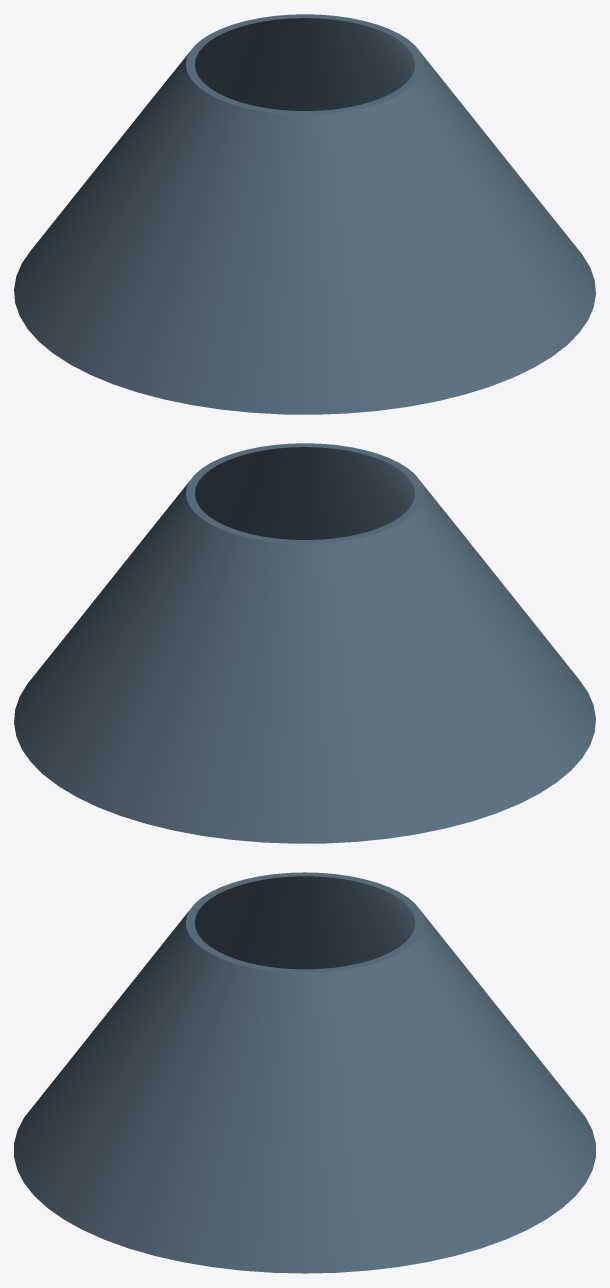
The model's file is perehod-325x8-133x5-L140.glb.
The picture shows the model from 3 angles, top to bottom: view 1: azimuth 30°, elevation 25°; view 2: azimuth 150°, elevation 25°; view 3: azimuth 270°, elevation 25°; orthographic projection.
Visible parts, largest first — view 1: Open CASCADE STEP translator 7.9 53; view 2: Open CASCADE STEP translator 7.9 53; view 3: Open CASCADE STEP translator 7.9 53.
Part boxes in pixels (<box>): Open CASCADE STEP translator 7.9 53: <box>14,14,595,414</box>; Open CASCADE STEP translator 7.9 53: <box>14,443,595,843</box>; Open CASCADE STEP translator 7.9 53: <box>14,872,595,1273</box>.
Size of the model in its own units: 325 by 140 by 325.
